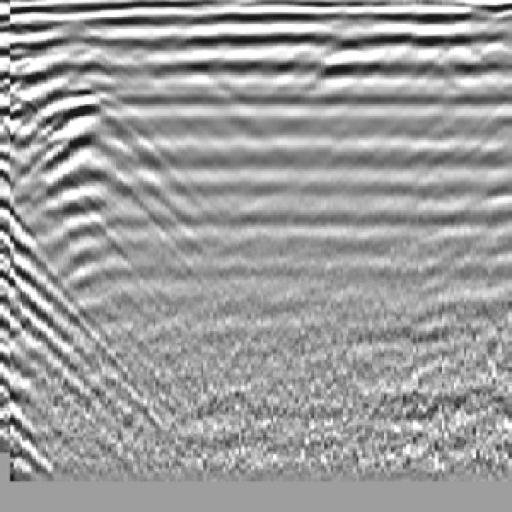metalic: (4, 47, 209, 374)
